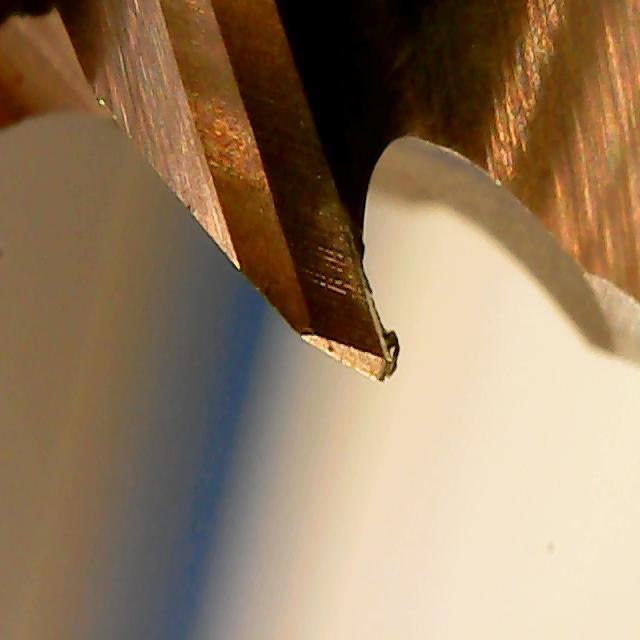Tool-wear-class-1: (229, 121, 410, 396)
